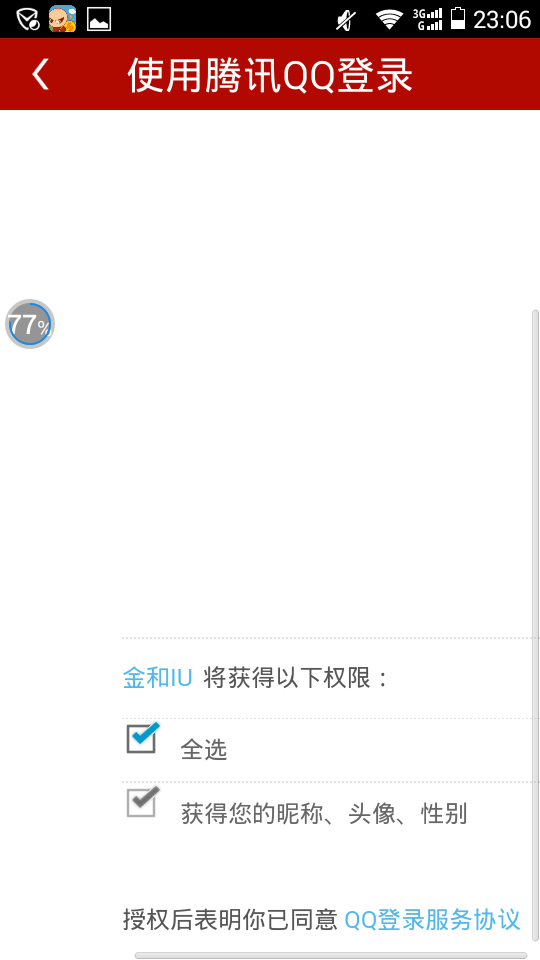checkbox: (105, 711, 495, 845)
